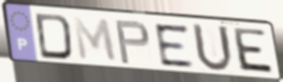D: (33, 12, 75, 62)
E: (232, 26, 276, 77), (152, 23, 197, 69)
M: (71, 15, 120, 65)
P: (114, 20, 153, 66)
U: (190, 21, 236, 75)
